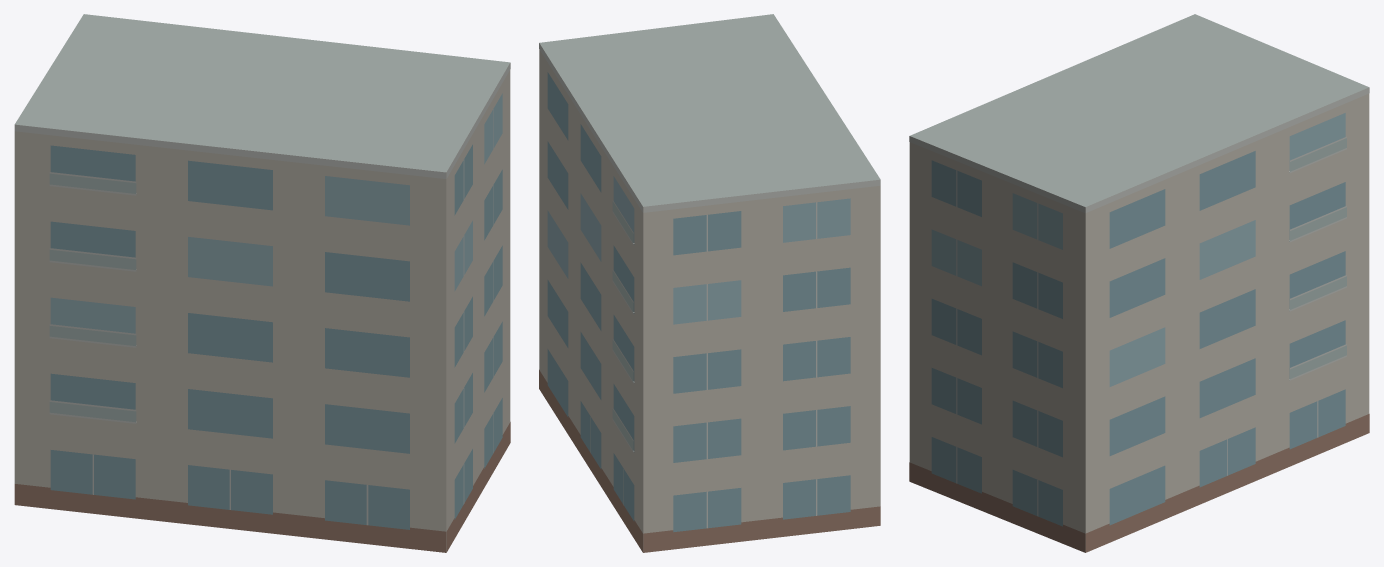
Rendered from survey-upis-32955214.glb.
3 views of the same model, side by side, from view 1: azimuth 30°, elevation 25°; view 2: azimuth 150°, elevation 25°; view 3: azimuth 270°, elevation 25° (orthographic). The views are drawn at different scales.
Visible parts, largest first — view 1: survey-upis-32955214.tmp; view 2: survey-upis-32955214.tmp; view 3: survey-upis-32955214.tmp.
Boxes of the visible parts, box(x1,y1,x2,y2) form: survey-upis-32955214.tmp: box(14, 14, 510, 552); survey-upis-32955214.tmp: box(539, 14, 880, 552); survey-upis-32955214.tmp: box(909, 14, 1369, 552).
Size of the model in its own units: 16.67 by 13.9 by 16.77.
